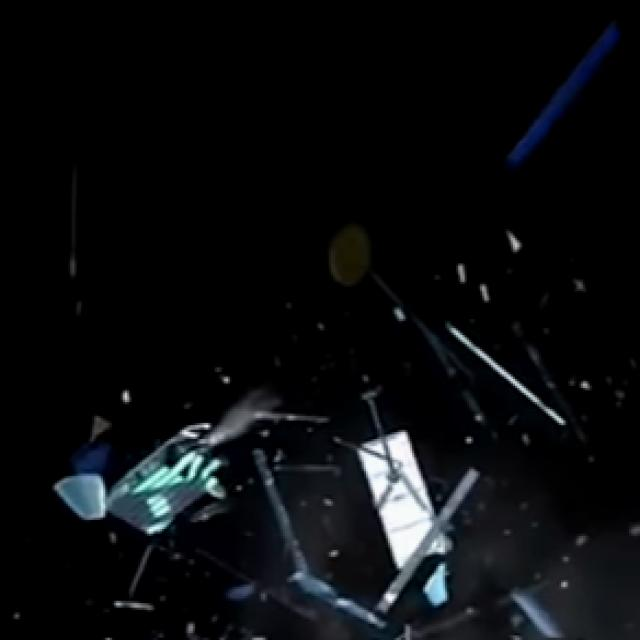large_debris: (30, 366, 344, 548), (422, 214, 596, 447), (345, 354, 480, 625)
